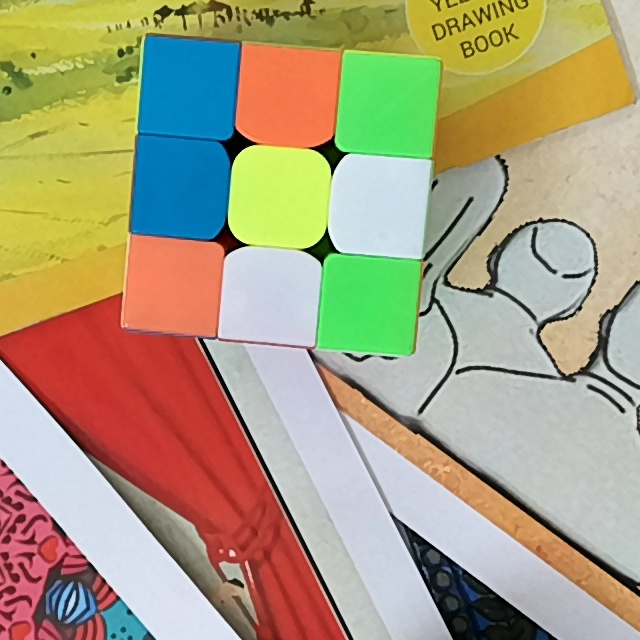tile: (148, 45, 229, 129), (345, 64, 428, 145), (139, 145, 219, 226), (238, 158, 320, 237), (341, 163, 420, 244), (244, 59, 328, 135), (330, 266, 409, 345), (227, 261, 311, 332), (131, 251, 211, 325)
